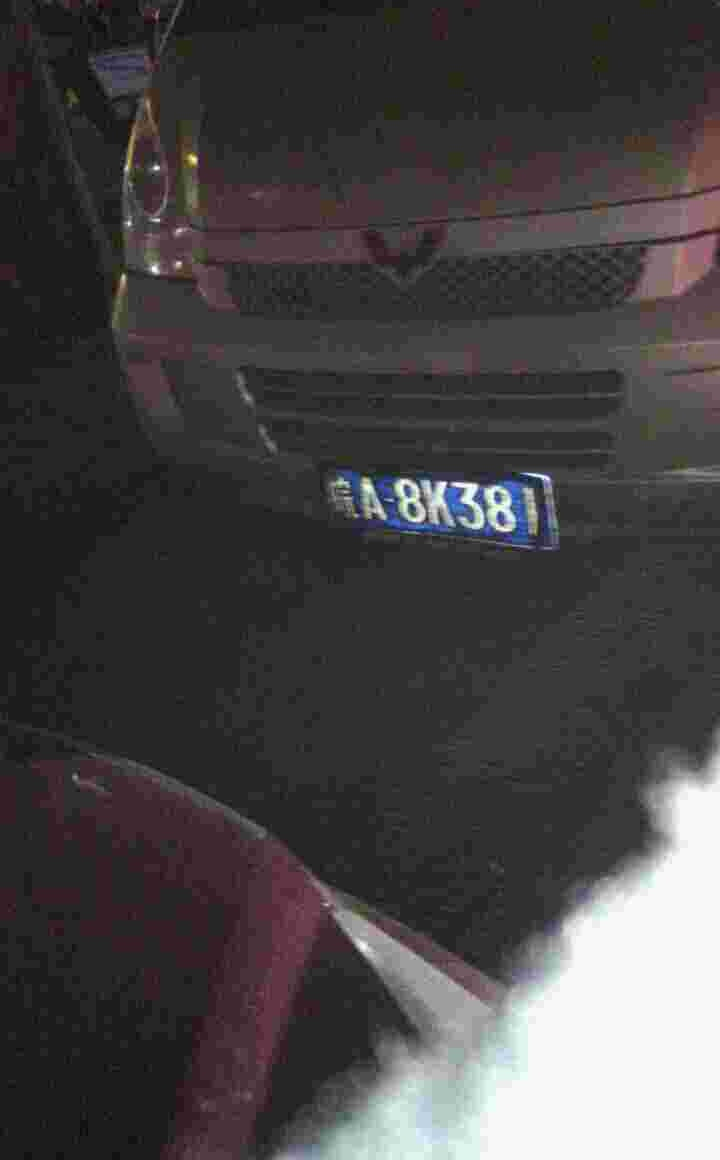car: (318, 468, 546, 556)
